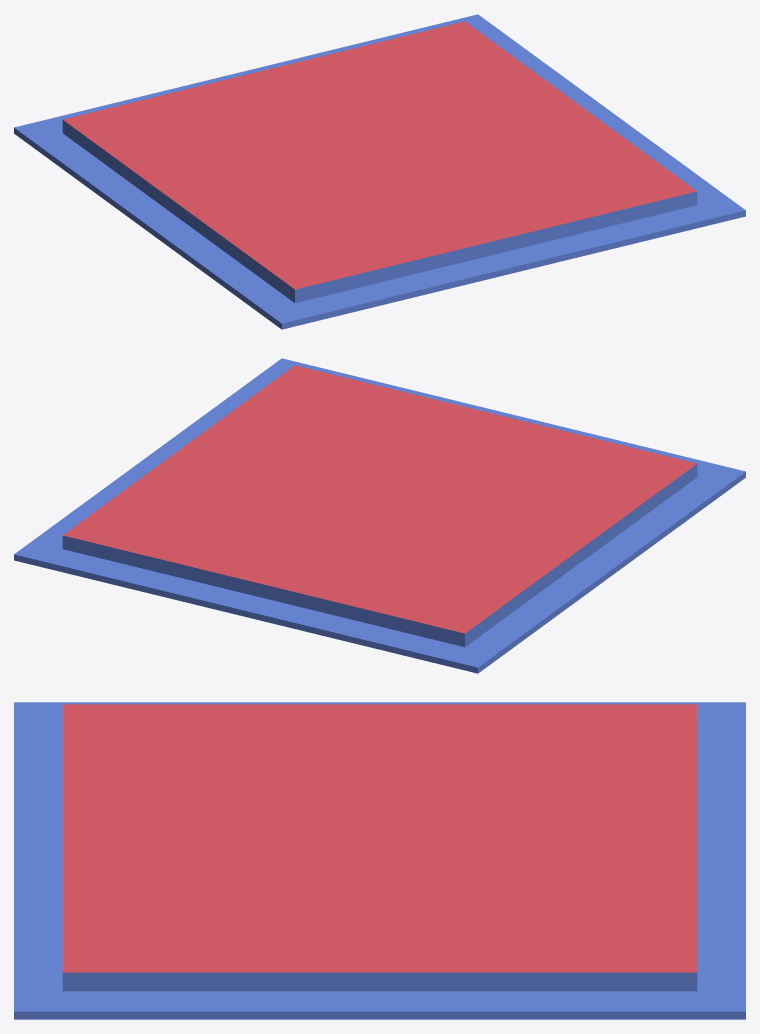
File: Chessboard.fbx
3 renders of one model, top to bottom at view 1: azimuth 30°, elevation 25°; view 2: azimuth 150°, elevation 25°; view 3: azimuth 270°, elevation 25°, orthographic. The views are drawn at different scales.
Parts seen in each view (by area): view 1: Cube; view 2: Cube; view 3: Cube.
Part boxes in pixels (x1,y1,x2,y2): Cube: (14,14,745,329); Cube: (14,358,745,673); Cube: (14,702,745,1019).
Size of the model in its own units: 1845 by 74.14 by 1845.
